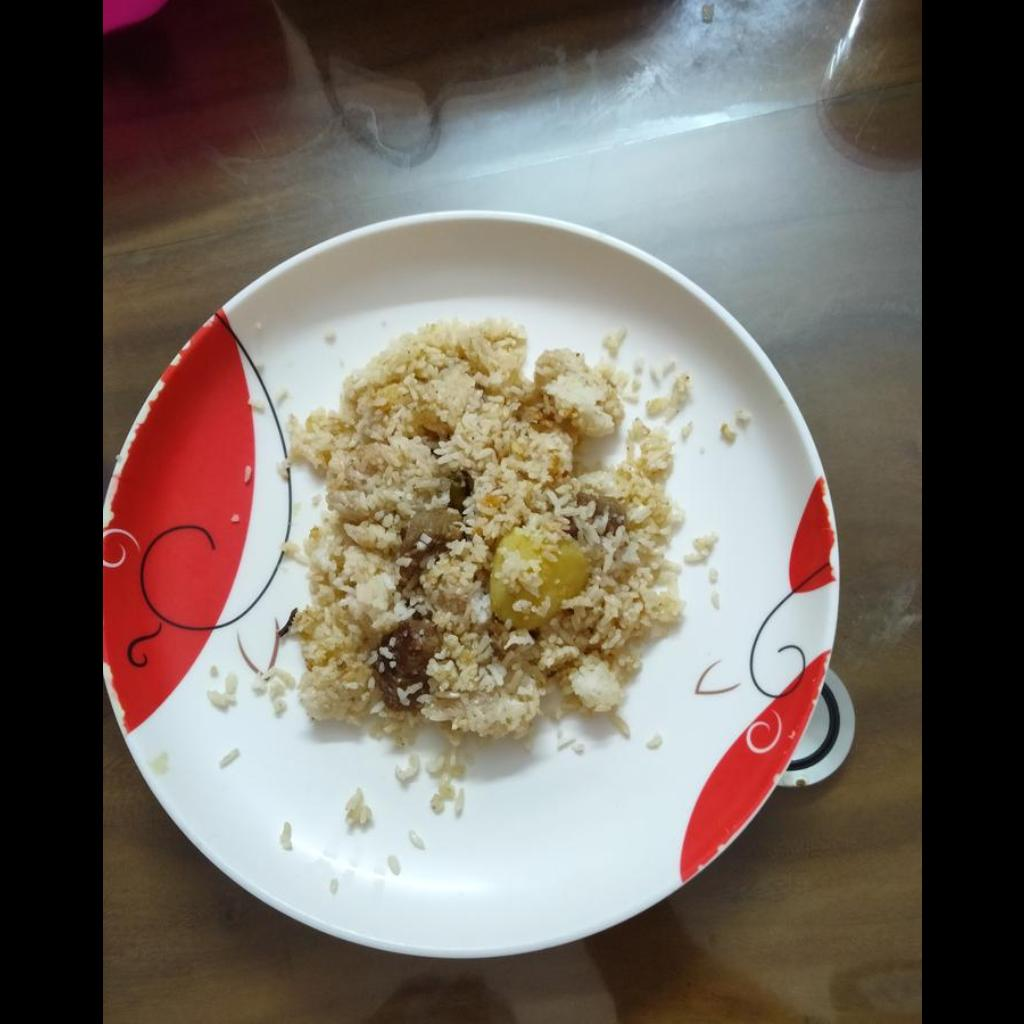biriyani: (276, 316, 682, 734)
